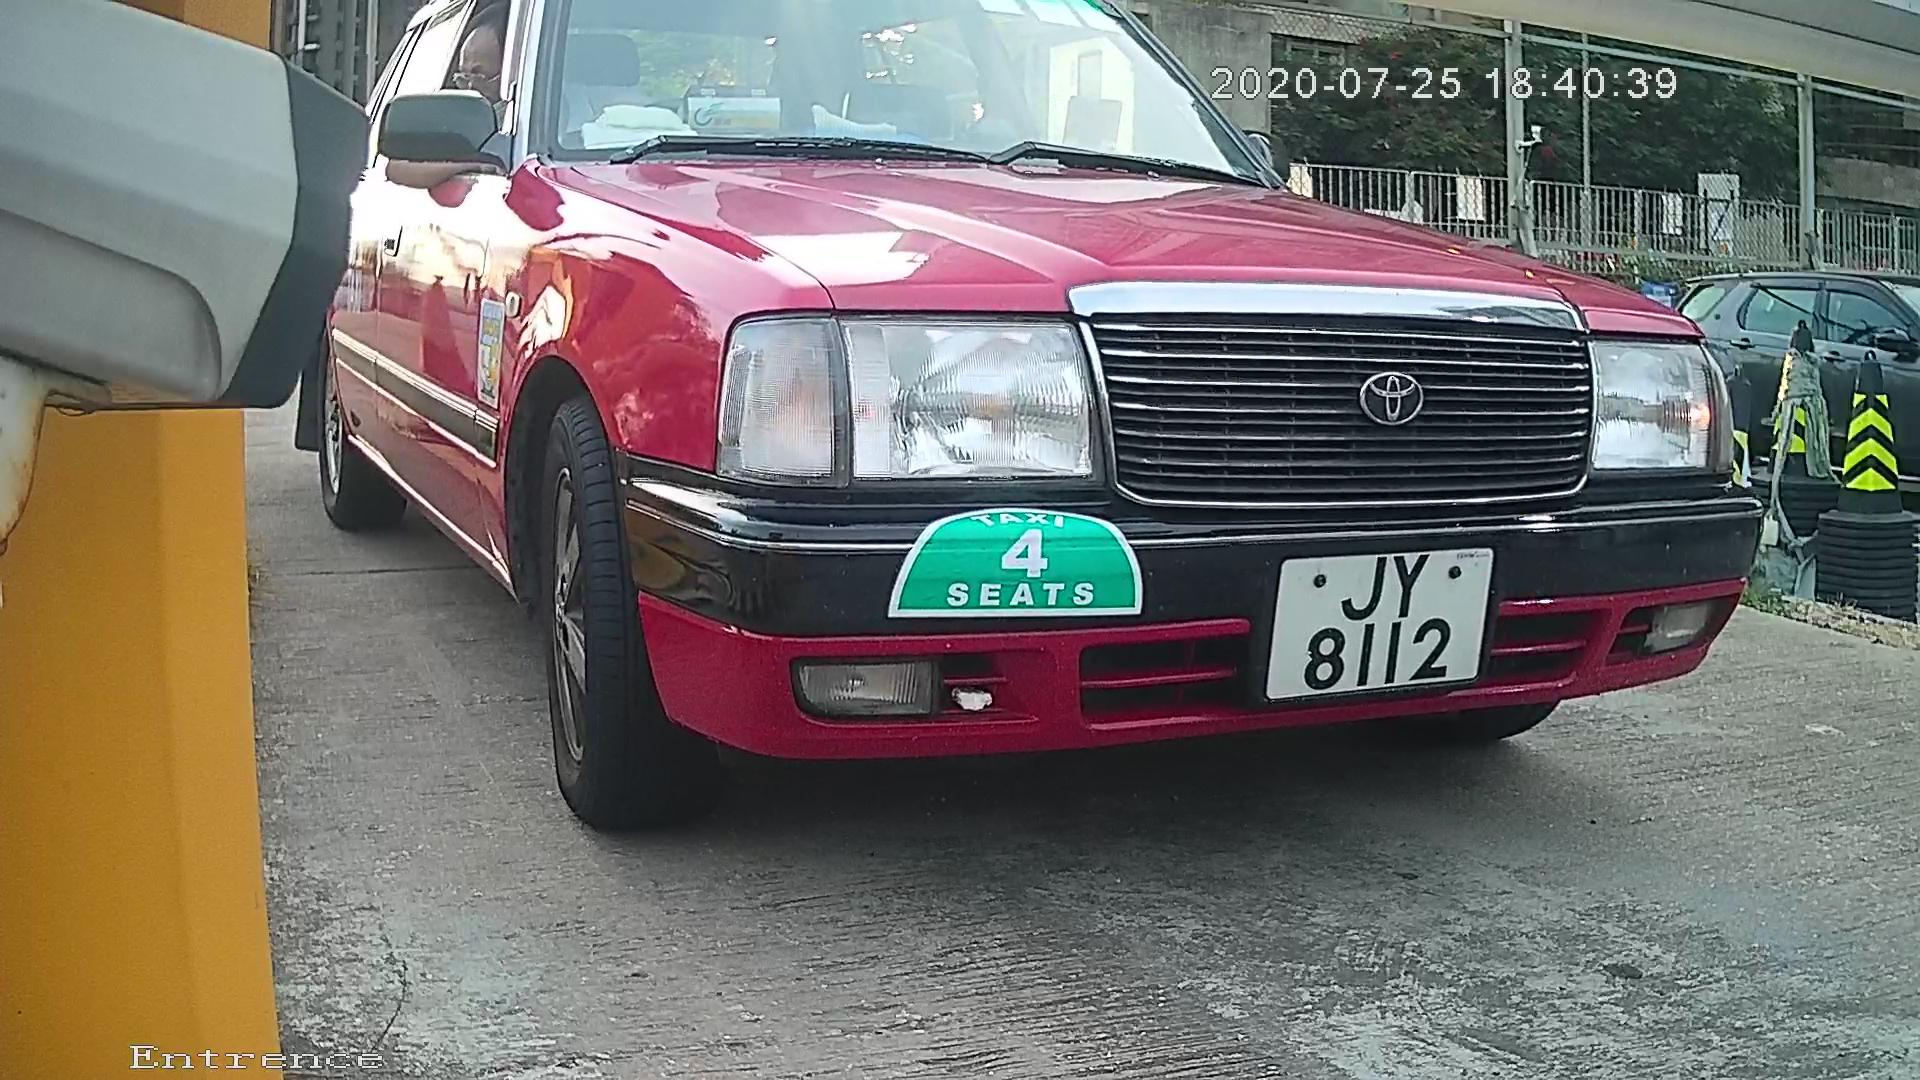License Plate: (1243, 541, 1509, 704)
